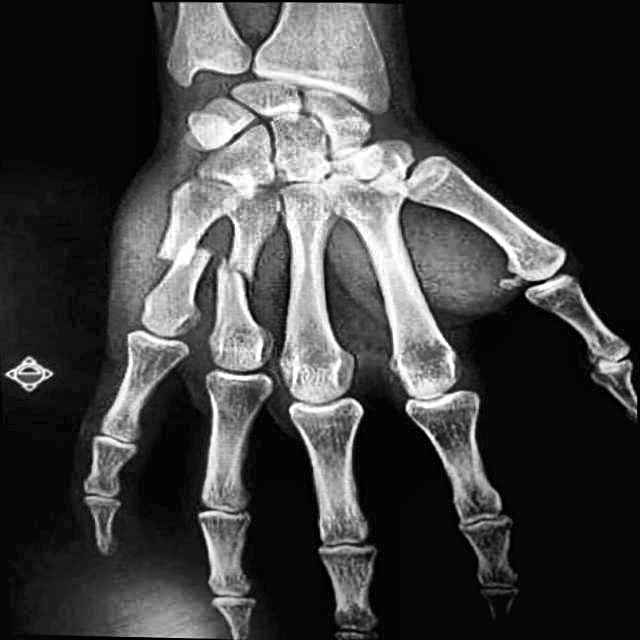Transverse: (133, 226, 214, 287)
Transverse Displaced: (208, 244, 286, 310)
